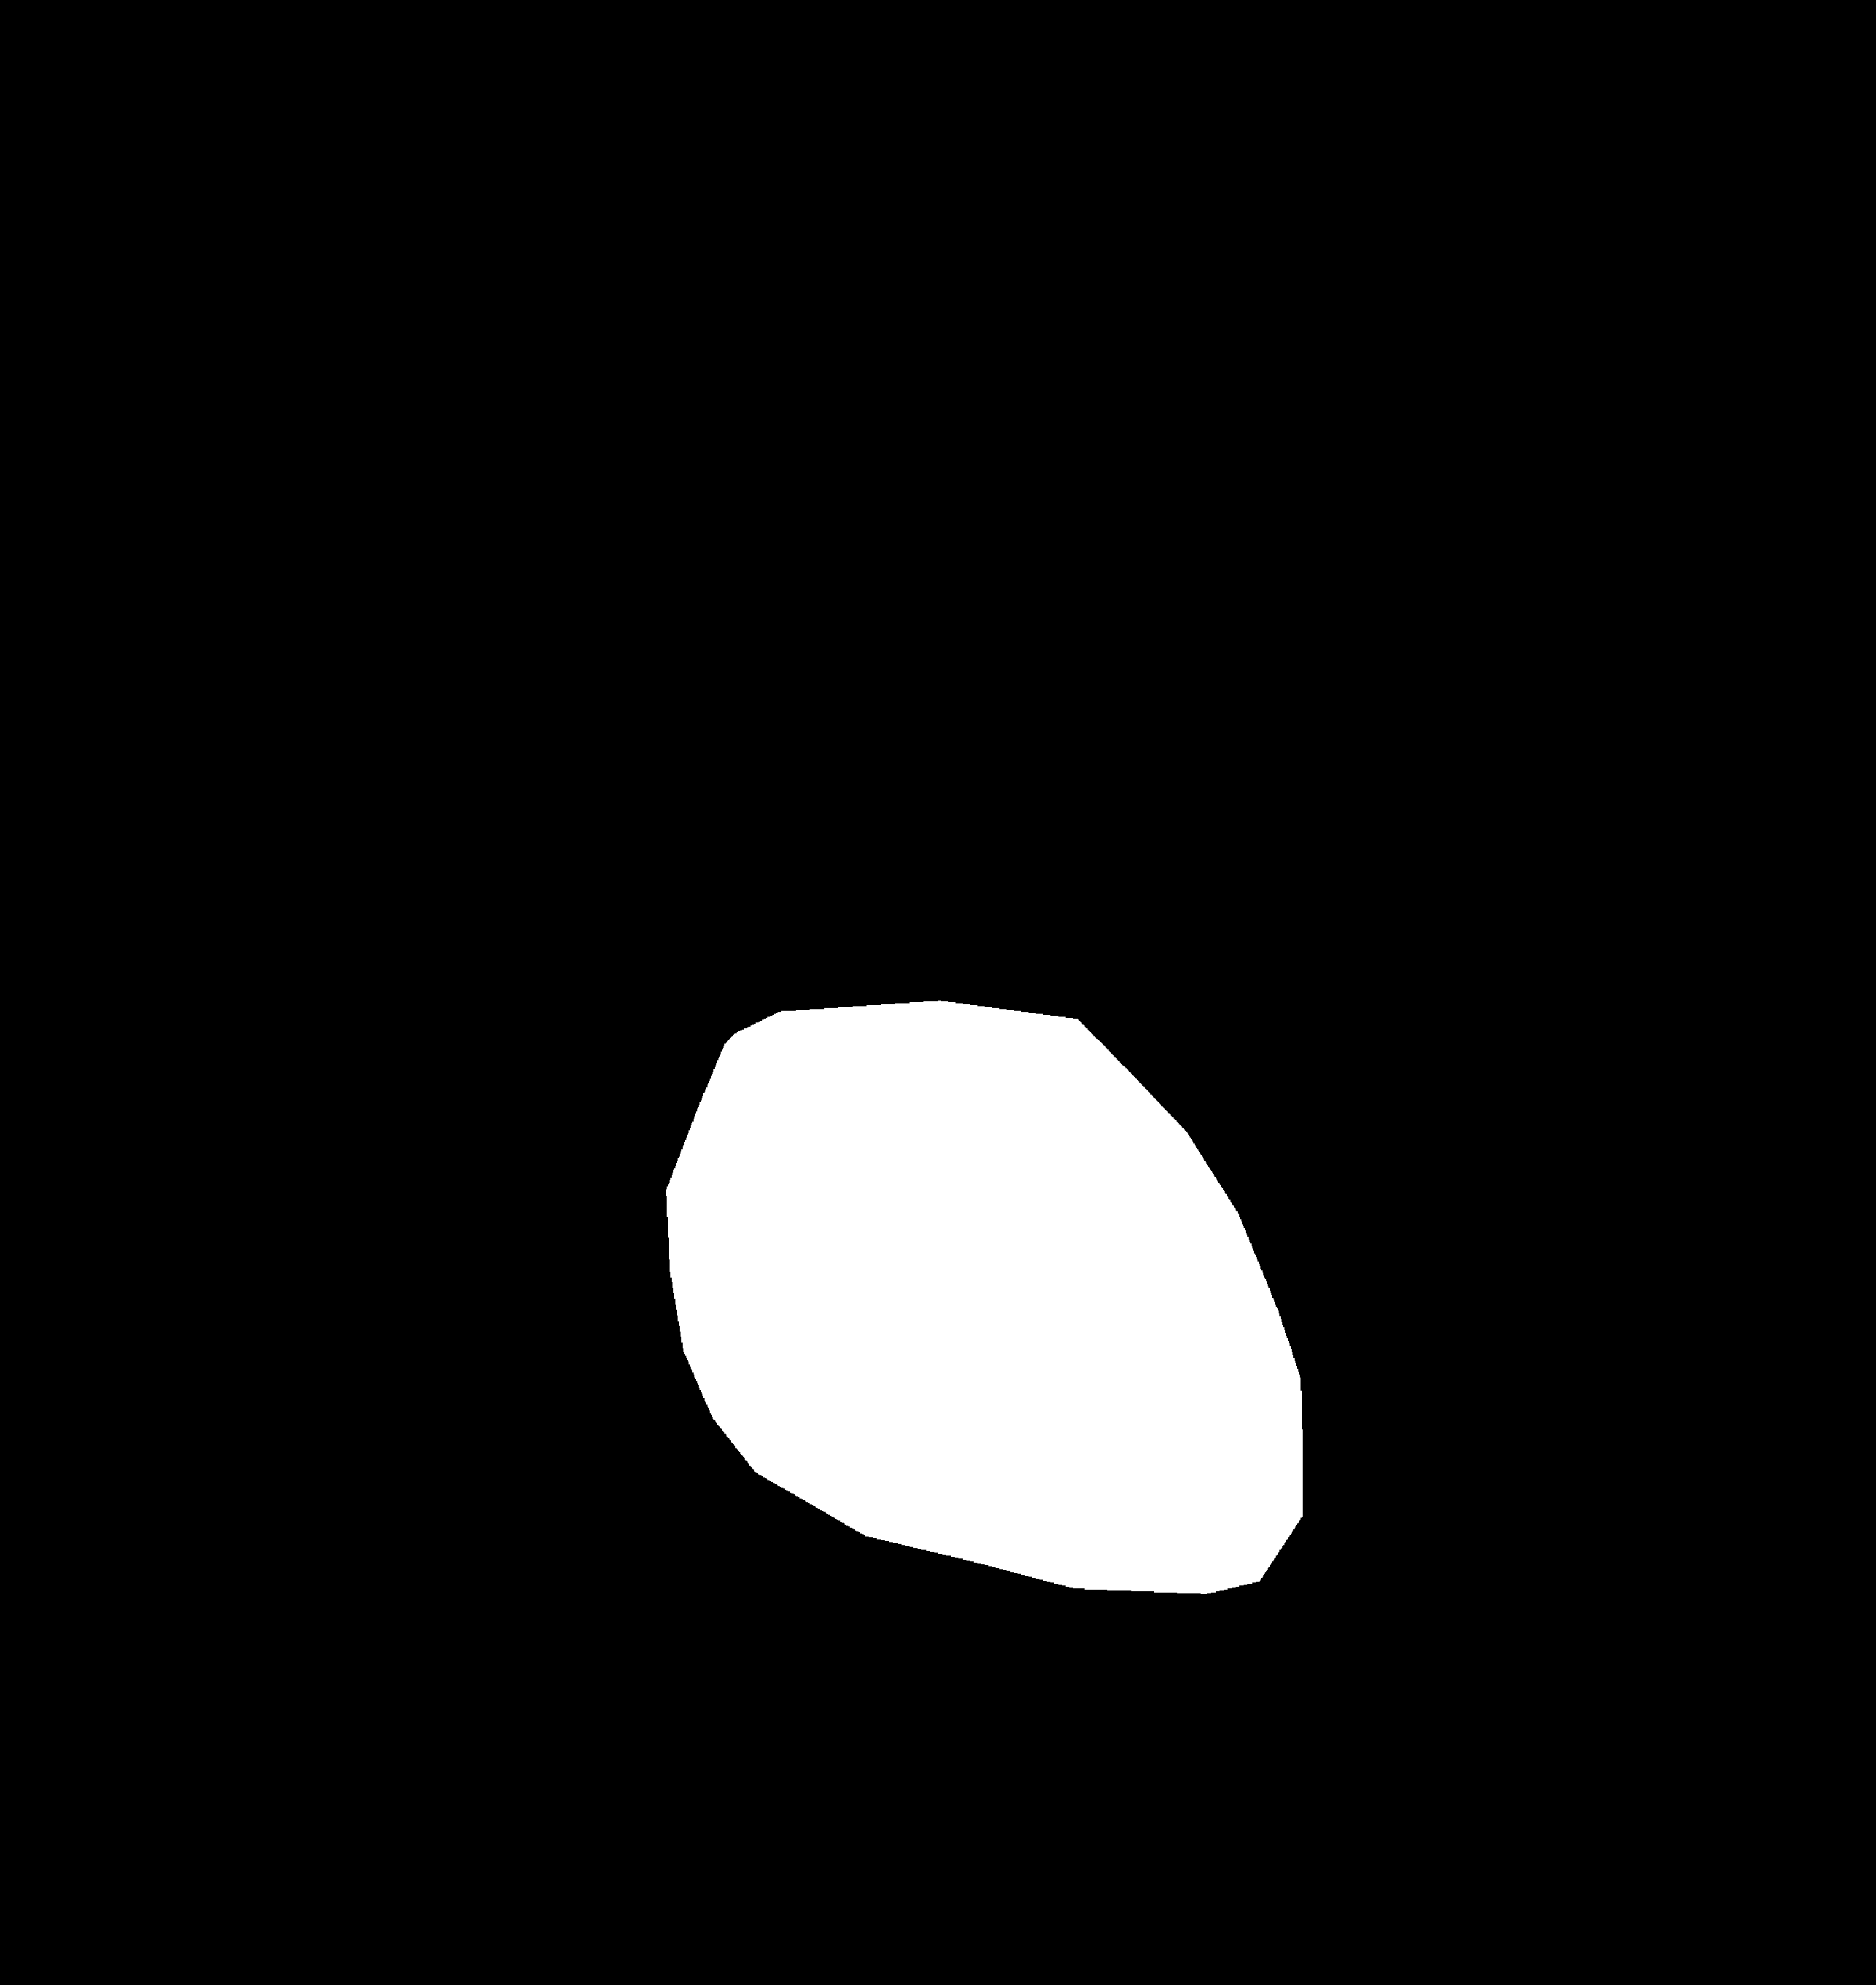heart: (659, 1052, 1306, 1645)
left_lung: (192, 266, 837, 1738)
right_lung: (979, 266, 1608, 1821)
